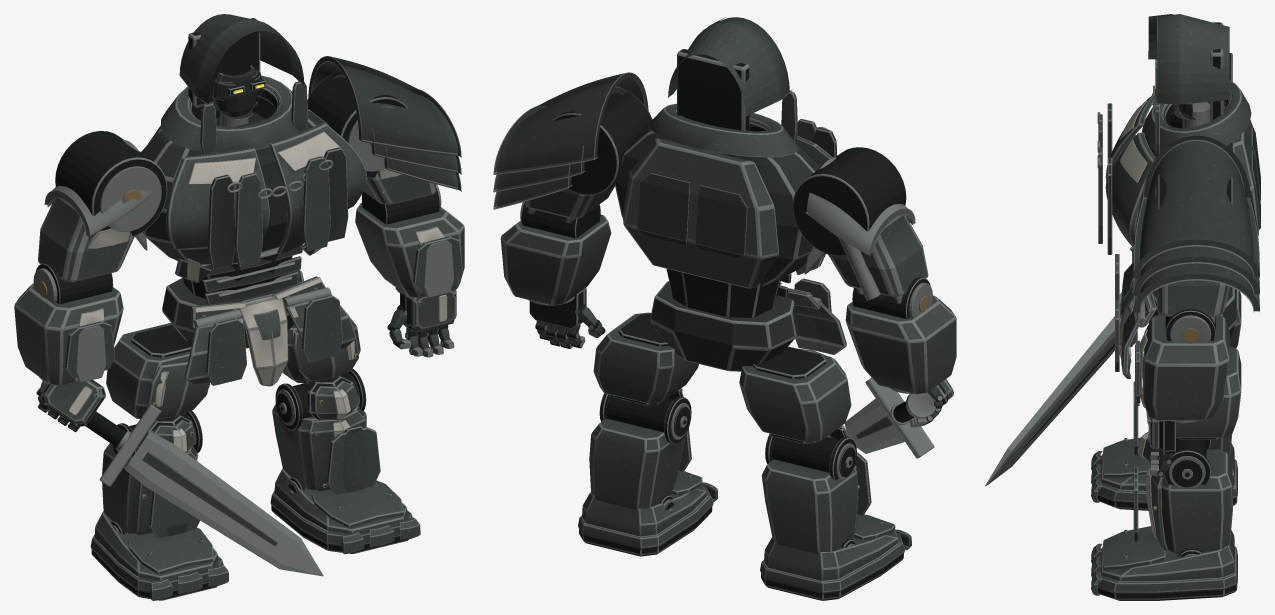
The model's file is tank-t4-revenant.glb.
3 renders of one model, left to right at view 1: azimuth 30°, elevation 25°; view 2: azimuth 150°, elevation 25°; view 3: azimuth 270°, elevation 25°, orthographic.
Visible parts, largest first — view 1: chest__clay, weaponR__metal, pauldronL__clay, chest__metal, kneeL__clay, shoulderR__metal, ankleL__clay, ankleR__clay, elbowR__clay, pelvis__metal, head__clay, elbowL__clay (+21 smaller); view 2: chest__clay, chest__metal, pelvis__metal, pauldronL__clay, kneeR__clay, elbowR__clay, shoulderR__metal, kneeL__clay, elbowL__clay, hipR__clay, ankleR__clay, head__clay (+19 smaller); view 3: pauldronL__clay, chest__clay, elbowL__clay, ankleL__clay, kneeL__clay, head__clay, weaponR__metal, ankleR__clay, shoulderL__clay, hipL__clay, kneeL__metal, chest__metal (+13 smaller).
Part boxes in pixels (x1,y1,x2,y2): chest__clay: (148, 75, 367, 282); weaponR__metal: (85, 404, 323, 576); pauldronL__clay: (308, 56, 461, 191); chest__metal: (134, 86, 348, 269); kneeL__clay: (272, 381, 380, 495); shoulderR__metal: (55, 131, 167, 280); ankleL__clay: (270, 468, 420, 554); ankleR__clay: (90, 511, 228, 600); elbowR__clay: (14, 283, 123, 385); pelvis__metal: (162, 244, 331, 348); head__clay: (179, 14, 307, 154); elbowL__clay: (355, 203, 464, 297); chest__clay: (622, 103, 832, 288); chest__metal: (614, 120, 837, 286); pelvis__metal: (650, 268, 821, 371); pauldronL__clay: (493, 72, 648, 209); kneeR__clay: (761, 425, 871, 554); elbowR__clay: (845, 295, 956, 394); shoulderR__metal: (792, 147, 906, 303); kneeL__clay: (589, 388, 691, 509); elbowL__clay: (500, 214, 611, 305); hipR__clay: (739, 346, 851, 442); ankleR__clay: (760, 514, 911, 594); head__clay: (668, 17, 797, 141); pauldronL__clay: (1133, 135, 1259, 312); chest__clay: (1098, 80, 1258, 248); elbowL__clay: (1135, 314, 1229, 420); ankleL__clay: (1091, 526, 1237, 595); kneeL__clay: (1133, 432, 1232, 554); head__clay: (1148, 14, 1229, 154); weaponR__metal: (985, 292, 1137, 486); ankleR__clay: (1091, 437, 1237, 503); shoulderL__clay: (1156, 280, 1229, 316); hipL__clay: (1176, 346, 1241, 437); kneeL__metal: (1133, 438, 1210, 510); chest__metal: (1097, 94, 1260, 254).
Bounding box in the file's own units: 3.6 × 4.27 × 2.06.
Materials: 11 (10 with a texture image).
